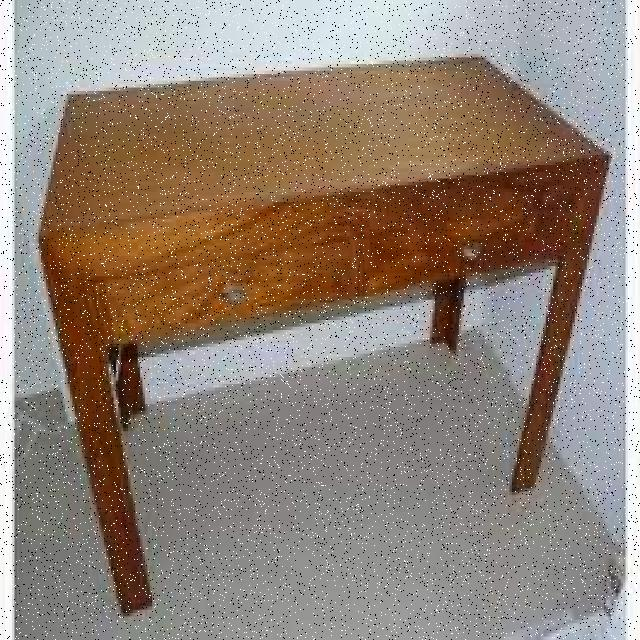mobile-phone: (37, 50, 623, 618)
